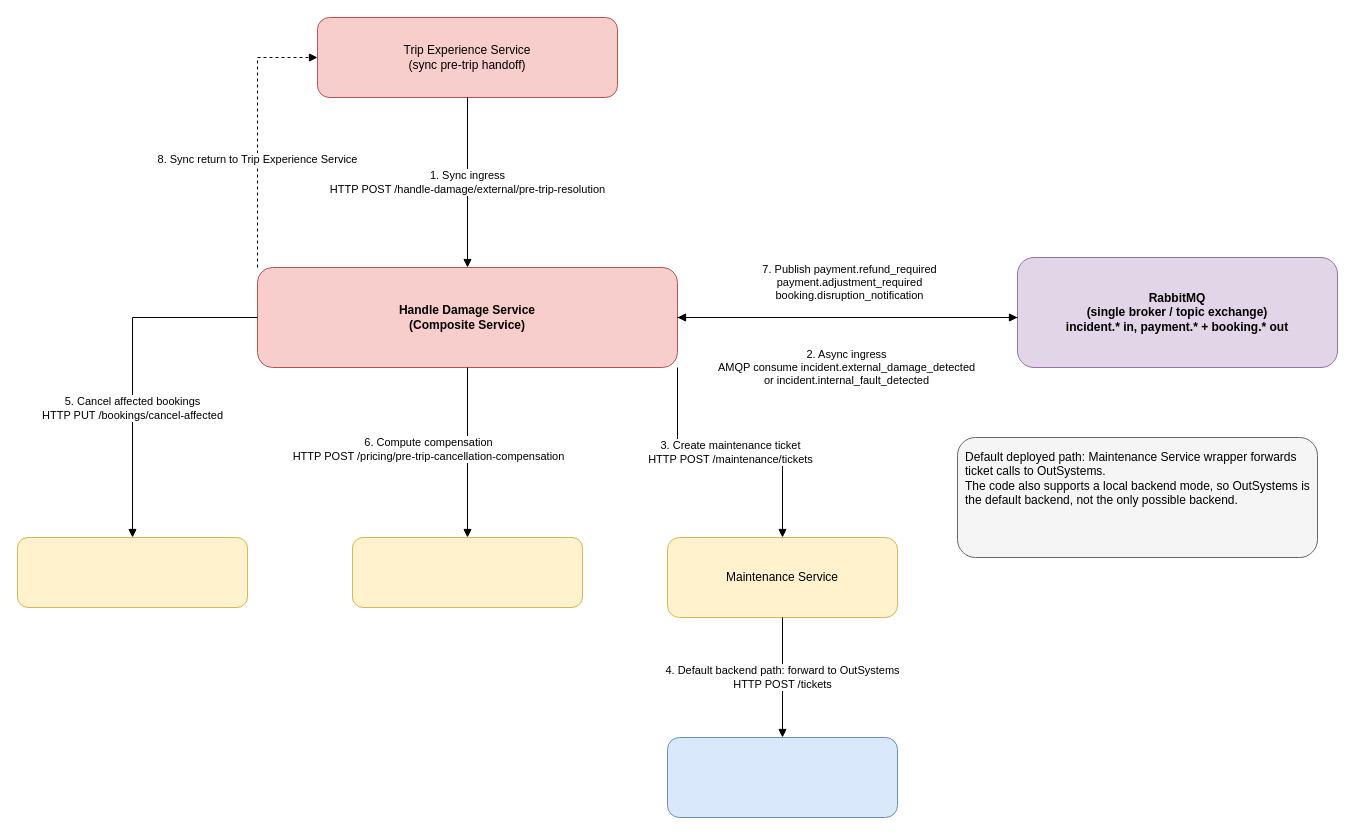
Some shapes in this 1355 by 835 pixel diagram are drawn without their labels. The box of each missing label's shape, as (x1, y1, x2, y2) in pixels:
Booking Service: (16, 536, 248, 608)
OutSystems Maintenance API: (666, 736, 898, 818)
Pricing Service: (352, 536, 582, 608)
